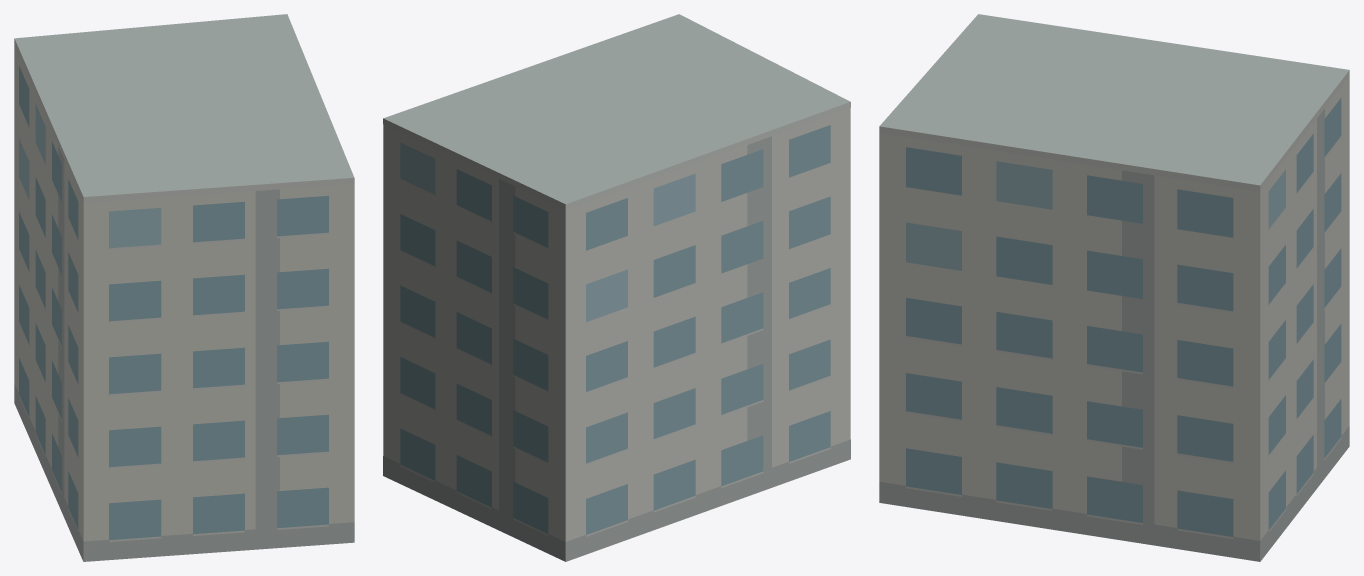
The model's file is survey-upis-32893658.glb.
3 renders of one model, left to right at view 1: azimuth 30°, elevation 25°; view 2: azimuth 150°, elevation 25°; view 3: azimuth 270°, elevation 25°, orthographic. The views are drawn at different scales.
Parts seen in each view (by area): view 1: survey-upis-32893658.tmp; view 2: survey-upis-32893658.tmp; view 3: survey-upis-32893658.tmp.
Boxes of the visible parts, bbox=[...] form: survey-upis-32893658.tmp: bbox=[14, 14, 354, 561]; survey-upis-32893658.tmp: bbox=[383, 14, 850, 561]; survey-upis-32893658.tmp: bbox=[879, 14, 1349, 561].
Bounding box in the file's own units: 14.12 × 14.45 × 16.37.
